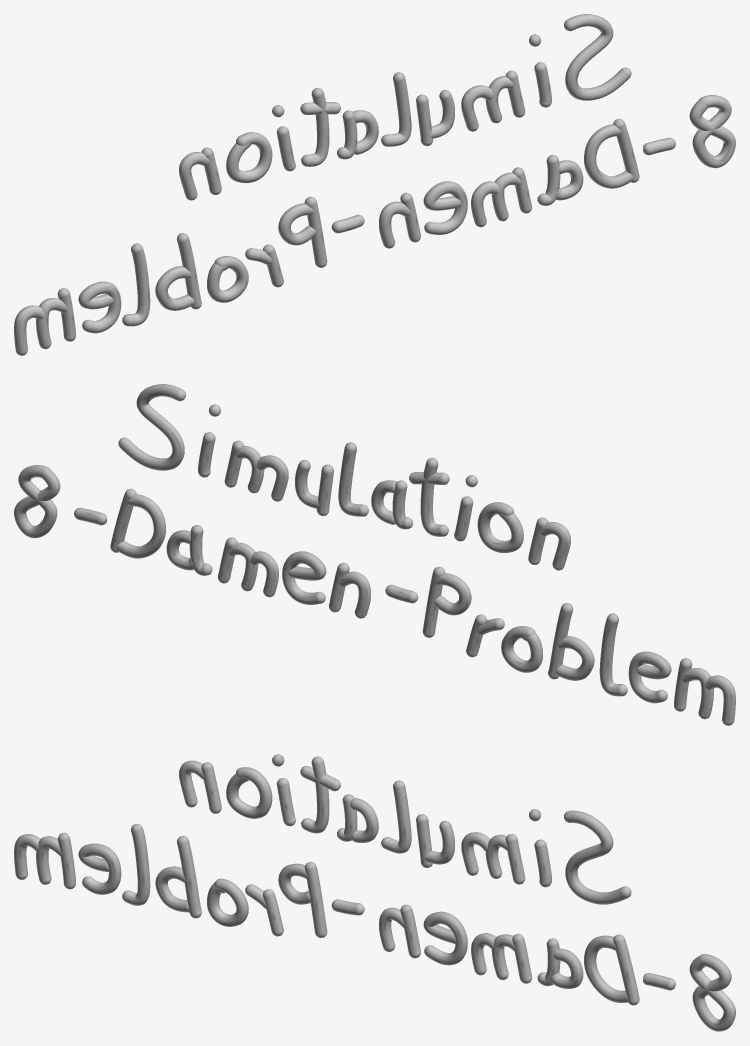
The model's file is a78e3d4b-4130-4f3c-be74-78f2cee6c782.obj.
3 views of the same model, one above another, from view 1: azimuth 30°, elevation 25°; view 2: azimuth 150°, elevation 25°; view 3: azimuth 330°, elevation 25° (orthographic).
Parts seen in each view (by area): view 1: s.0263, s.0307, s.0325, s.0346, s.0289, s.0310, s.0341, s.0345, s.0276, s.0280, s.0343, s.0337 (+21 smaller); view 2: s.0263, s.0307, s.0325, s.0346, s.0289, s.0310, s.0341, s.0345, s.0276, s.0280, s.0343, s.0337 (+21 smaller); view 3: s.0263, s.0307, s.0325, s.0346, s.0289, s.0341, s.0310, s.0345, s.0276, s.0280, s.0342, s.0336 (+25 smaller).
Boxes of the visible parts, box(x1,y1,x2,y2) form: s.0263: box(564, 14, 631, 100); s.0307: box(689, 95, 735, 168); s.0325: box(423, 181, 467, 234); s.0346: box(78, 281, 121, 333); s.0289: box(226, 132, 272, 183); s.0310: box(584, 124, 633, 188); s.0341: box(207, 256, 248, 302); s.0345: box(122, 243, 150, 326); s.0276: box(381, 72, 411, 146); s.0280: box(301, 87, 329, 166); s.0343: box(155, 266, 194, 310); s.0337: box(278, 203, 315, 245); s.0263: box(118, 384, 185, 470); s.0307: box(14, 465, 60, 538); s.0325: box(282, 551, 326, 604); s.0346: box(628, 651, 671, 703); s.0289: box(477, 502, 523, 553); s.0310: box(116, 494, 165, 558); s.0341: box(501, 626, 542, 672); s.0345: box(599, 613, 627, 696); s.0276: box(338, 442, 368, 516); s.0280: box(420, 457, 448, 536); s.0343: box(555, 636, 594, 680); s.0337: box(434, 573, 471, 615); s.0263: box(564, 810, 631, 904); s.0307: box(689, 954, 735, 1031); s.0325: box(423, 911, 467, 965); s.0346: box(78, 843, 121, 894); s.0289: box(226, 767, 272, 818); s.0341: box(207, 878, 248, 926); s.0310: box(584, 935, 627, 1002); s.0345: box(122, 824, 150, 905); s.0276: box(381, 780, 411, 853); s.0280: box(301, 756, 329, 833); s.0342: box(176, 835, 201, 918); s.0336: box(304, 862, 327, 937).
Bounding box in the file's own units: 2.07 × 0.5579 × 0.0309.
Materials: 1 (1 with a texture image).
